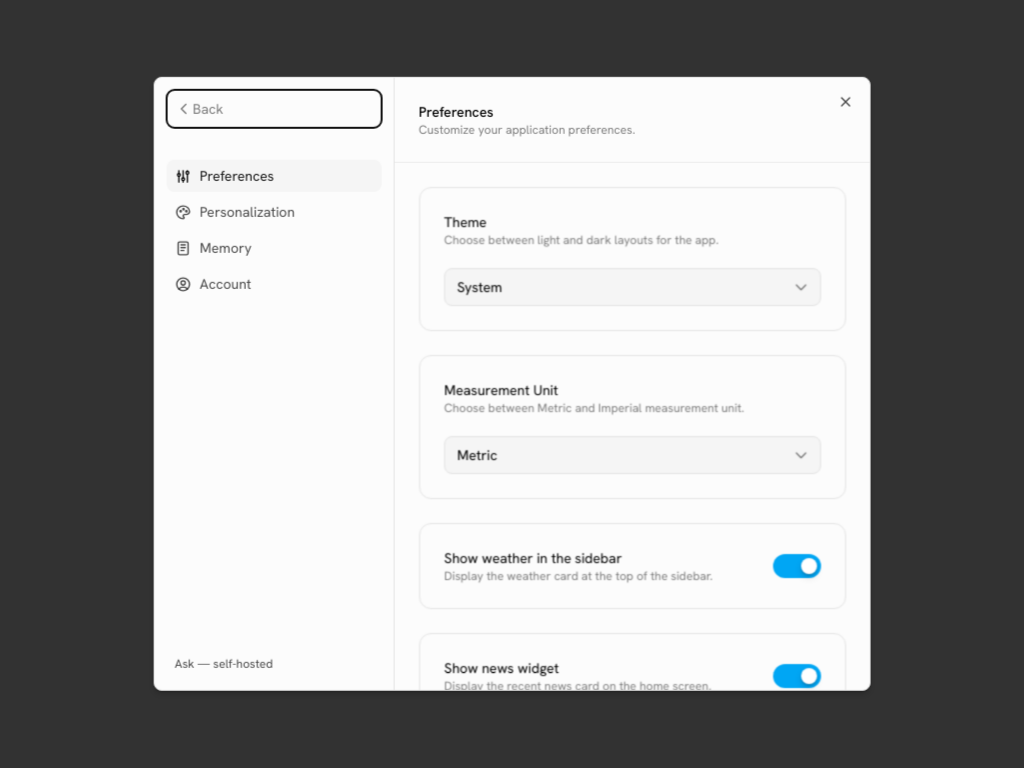
it: SettingsDialog tab reachability › Account tab shows the profile and the delete-account danger zone
Click the button "Account": (274, 284) x1=167 y1=268 x2=382 y2=300
(page scrolled)
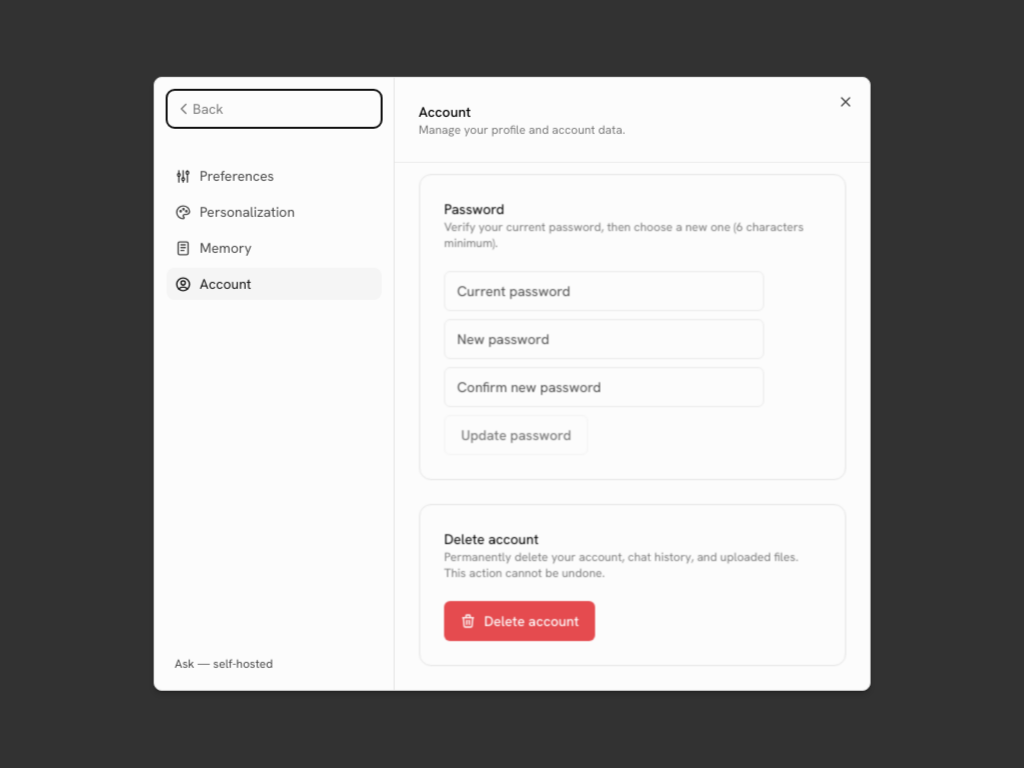
Expected: the button "Delete account" is shown, x1=444 y1=601 x2=594 y2=641
